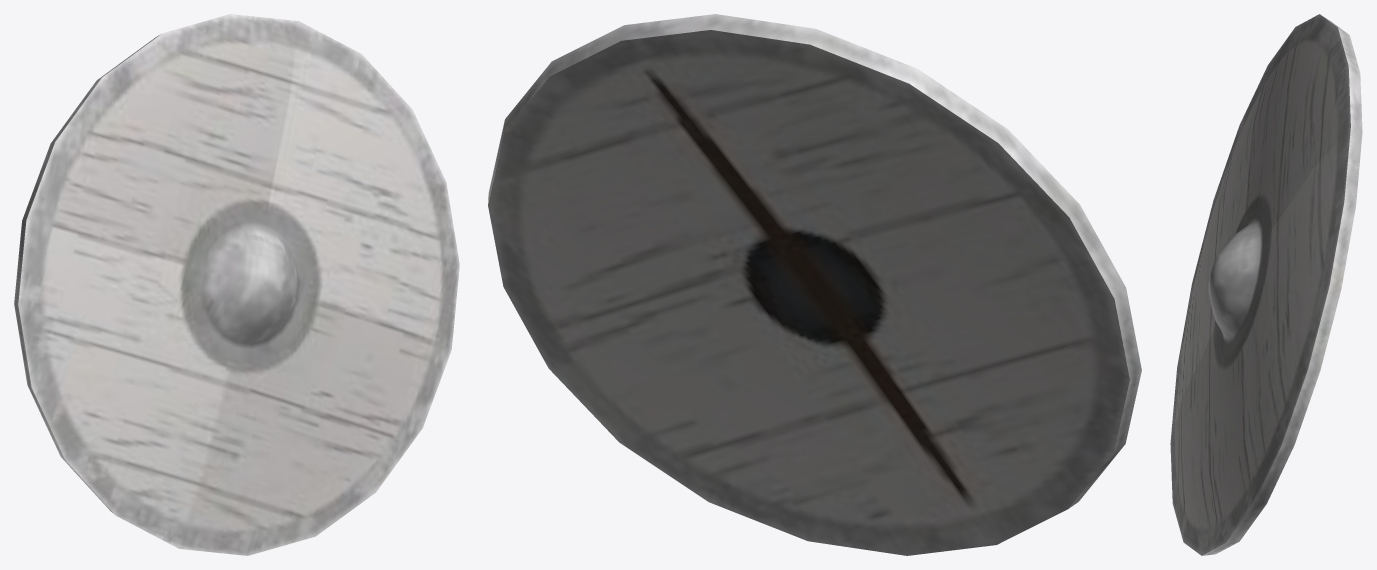
File: shield-coppershields.glb
3 views of the same model, side by side, from view 1: azimuth 30°, elevation 25°; view 2: azimuth 150°, elevation 25°; view 3: azimuth 270°, elevation 25° (orthographic). The views are drawn at different scales.
Bounding box in the file's own units: 0.6452 × 0.6226 × 0.2275.
1 material, 1 textured.
